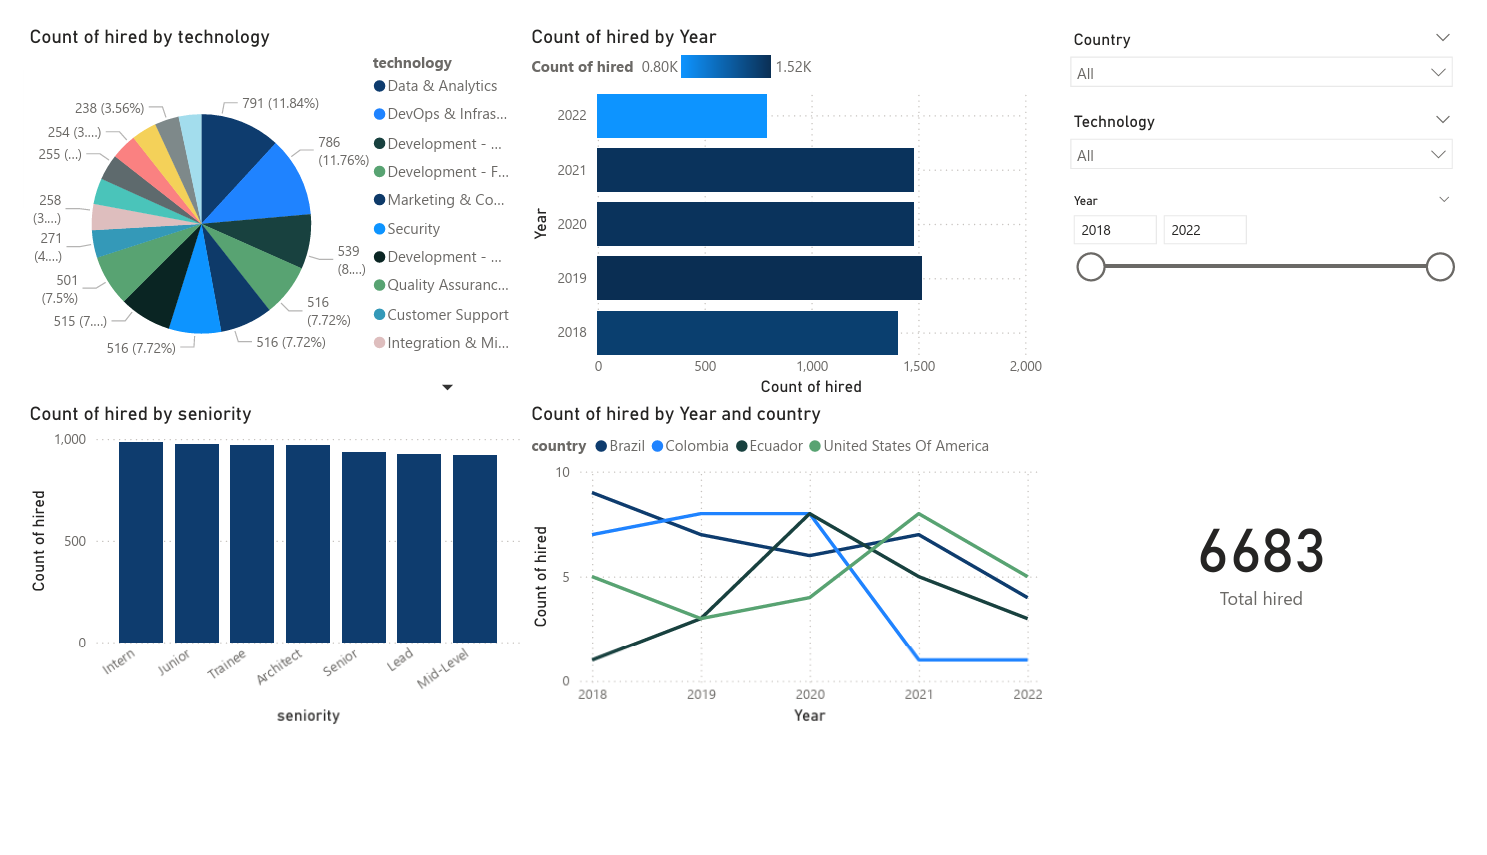

What the dashboard file says about the page in this screenshot:
{"tool":"powerbi","page":{"name":"Page 1","canvas":[1280,720],"ordinal":0},"visuals":[{"type":"barChart","fields":{"Y":["CountNonNull(public applicant.hired)"],"Category":["public applicant.application_date.Variation.Date Hierarchy.Year"]},"box":[446,0,463.9,334.9],"z":0},{"type":"columnChart","fields":{"Y":["CountNonNull(public applicant.hired)"],"Category":["public applicant.seniority"]},"box":[0,334.9,446,291.9],"z":1000},{"type":"pieChart","fields":{"Y":["CountNonNull(public applicant.hired)"],"Category":["public applicant.technology"]},"box":[0,0,446.4,334.6],"z":2000},{"type":"lineChart","fields":{"Y":["CountNonNull(public applicant.hired)"],"Category":["public applicant.application_date.Variation.Date Hierarchy.Year"],"Series":["public applicant.country"]},"box":[446,334.9,463.9,291.9],"z":3000},{"type":"slicer","fields":{"Values":["public applicant.country"]},"box":[919.7,0,360,72.5],"z":4000},{"type":"slicer","fields":{"Values":["public applicant.technology"]},"box":[919.7,72.5,360,72.5],"z":5000},{"type":"slicer","fields":{"Values":["public applicant.application_date.Variation.Date Hierarchy.Year"]},"box":[919.7,145.1,360,115.5],"z":6000},{"type":"card","fields":{"Values":["CountNonNull(public applicant.hired)"]},"box":[919.7,325.1,360,291.9],"z":6001}]}

Visuals, with their boxes in screenshot pixels (x1, y1, x2, y2), scaled from the page's 1280x720 canvas onto the 1487x855 screenshot:
barChart - CountNonNull(public applicant.hired) x public applicant.application_date.Variation.Date Hierarchy.Year: 518, 0, 1057, 398
columnChart - CountNonNull(public applicant.hired) x public applicant.seniority: 0, 398, 518, 744
pieChart - CountNonNull(public applicant.hired) x public applicant.technology: 0, 0, 519, 397
lineChart - CountNonNull(public applicant.hired) x public applicant.application_date.Variation.Date Hierarchy.Year: 518, 398, 1057, 744
slicer - public applicant.country: 1068, 0, 1486, 86
slicer - public applicant.technology: 1068, 86, 1486, 172
slicer - public applicant.application_date.Variation.Date Hierarchy.Year: 1068, 172, 1486, 309
card - CountNonNull(public applicant.hired): 1068, 386, 1486, 733
